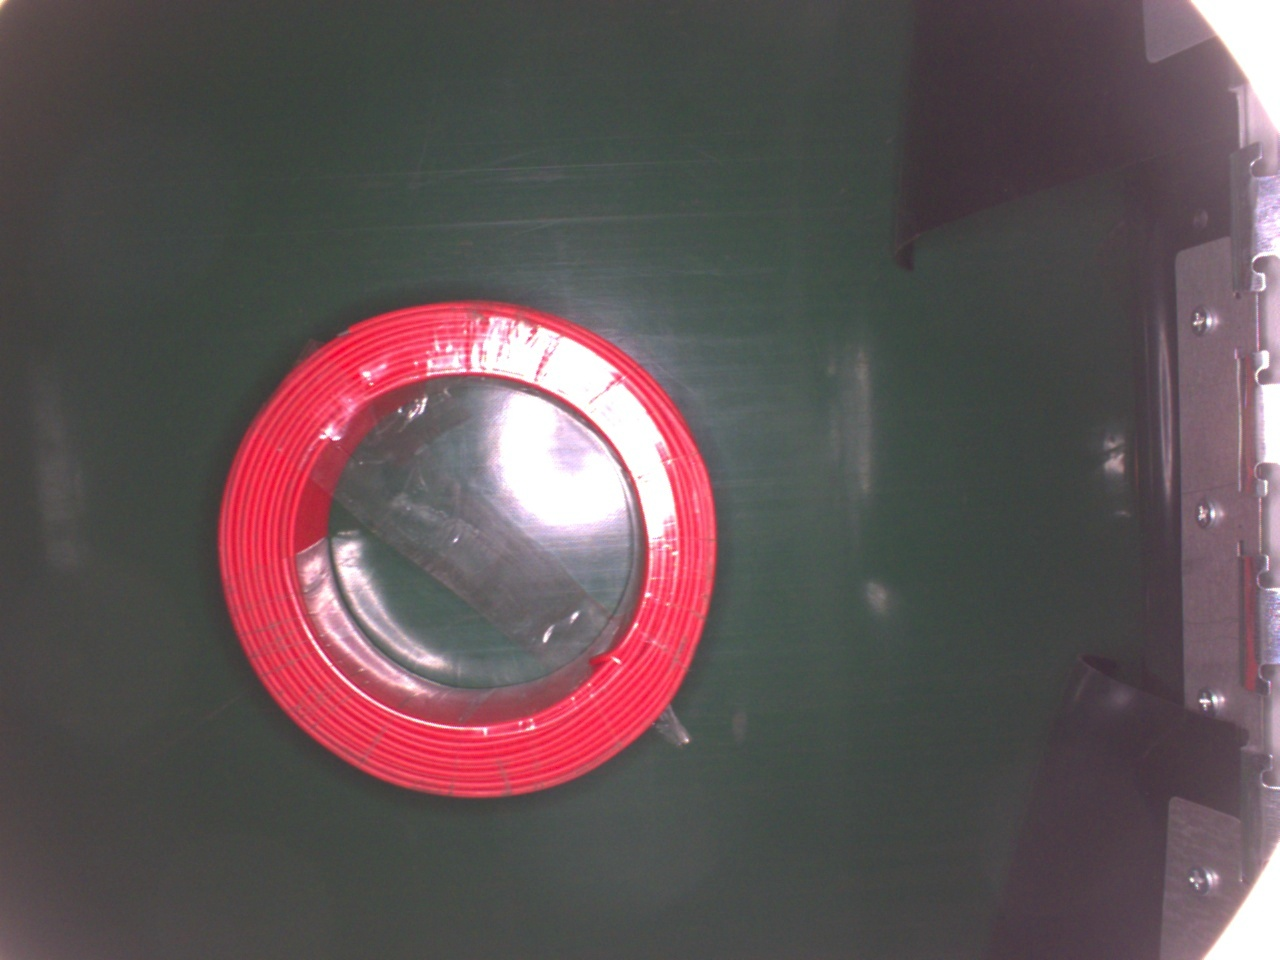red: (222, 295, 711, 800)
